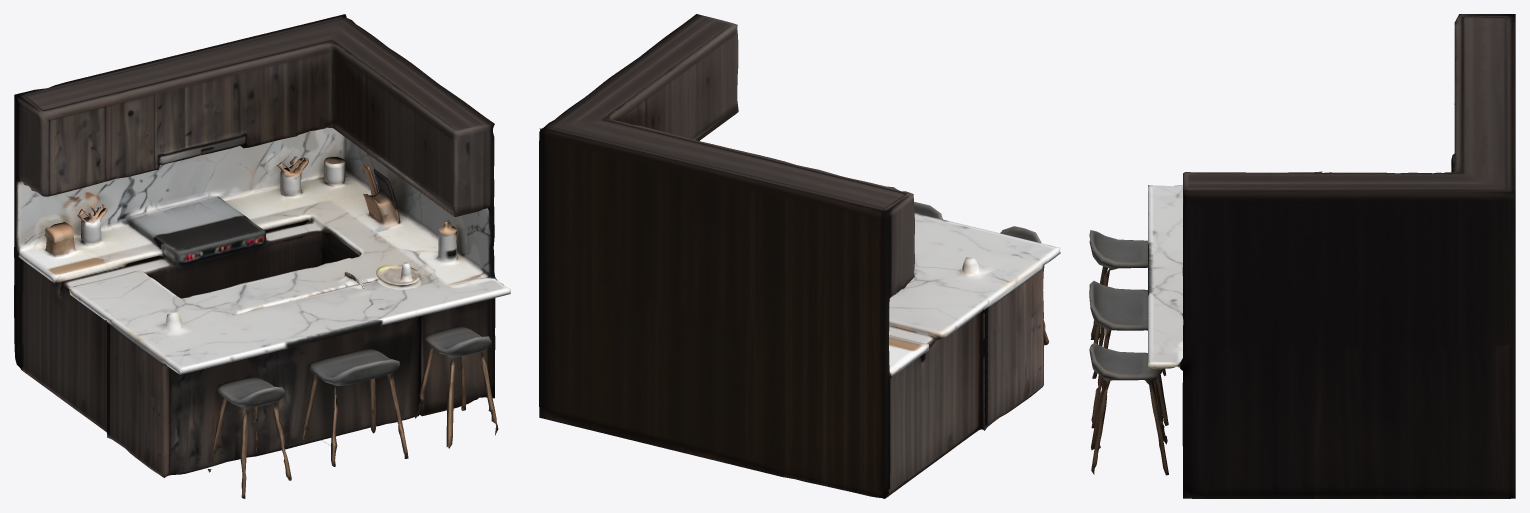
Rendered from kitchen-island.glb.
3 renders of one model, left to right at view 1: azimuth 30°, elevation 25°; view 2: azimuth 150°, elevation 25°; view 3: azimuth 270°, elevation 25°, orthographic. The views are drawn at different scales.
Visible parts, largest first — view 1: model; view 2: model; view 3: model.
Part boxes in pixels (x1,y1,x2,y2): model: (14,14,510,498); model: (539,14,1060,498); model: (1089,14,1515,498).
Bounding box in the file's own units: 1.81 × 1.44 × 1.82.
1 material, 1 textured.
